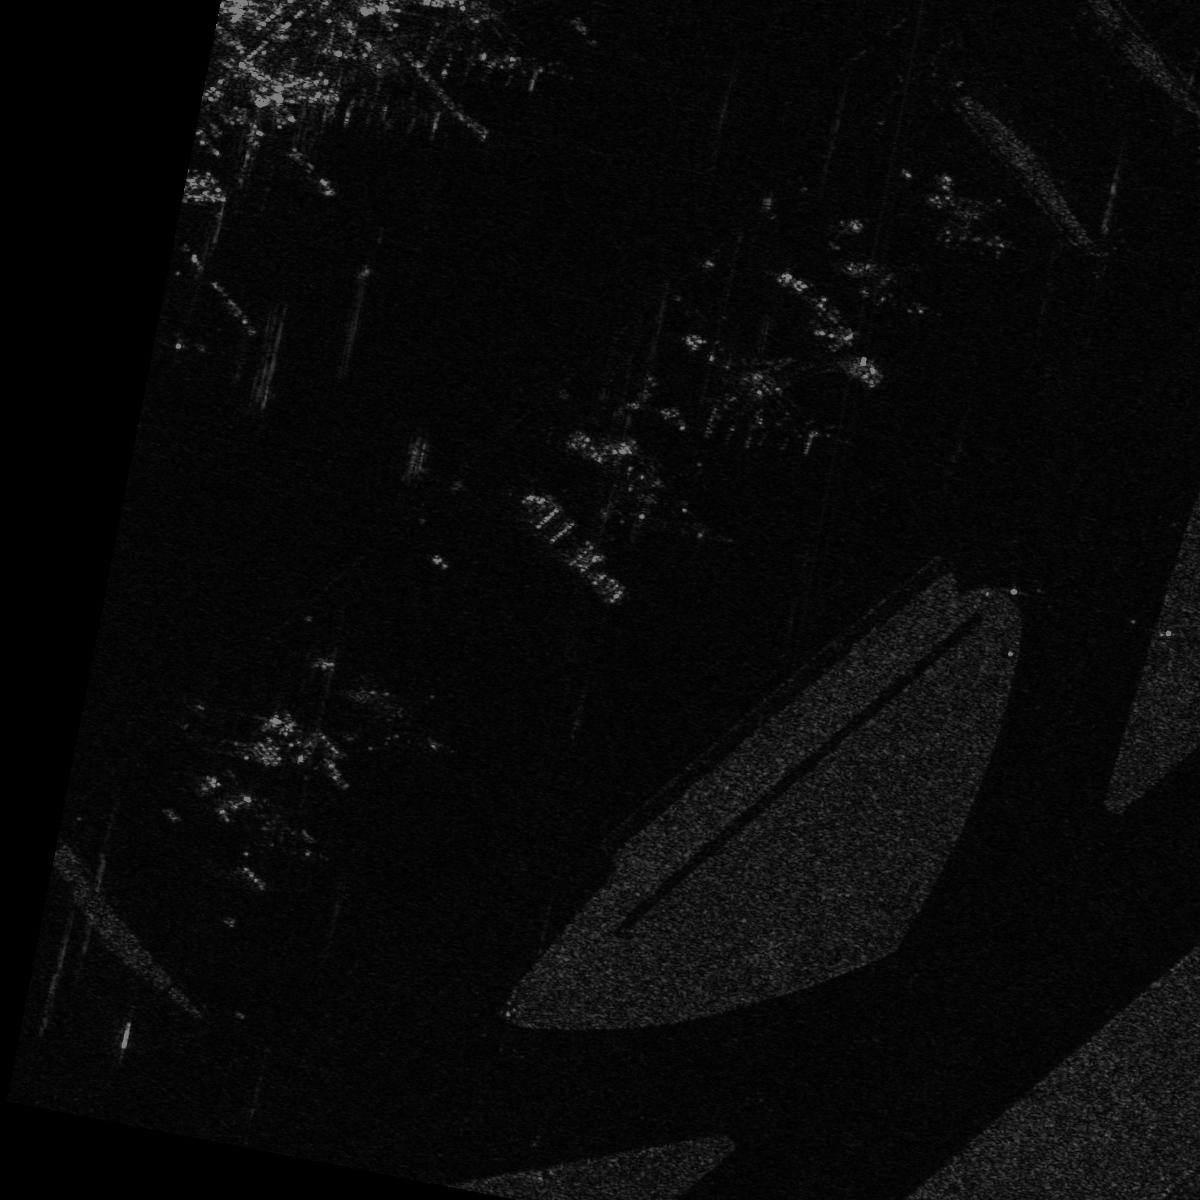Boeing737: (927, 179, 1016, 266), (844, 251, 927, 327)
other: (574, 419, 727, 549), (676, 327, 816, 451)
